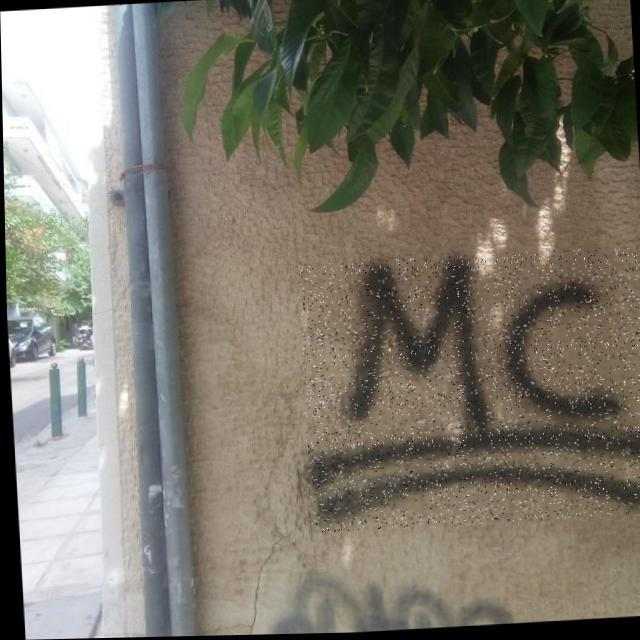-: (295, 248, 640, 534), (258, 564, 515, 636)
